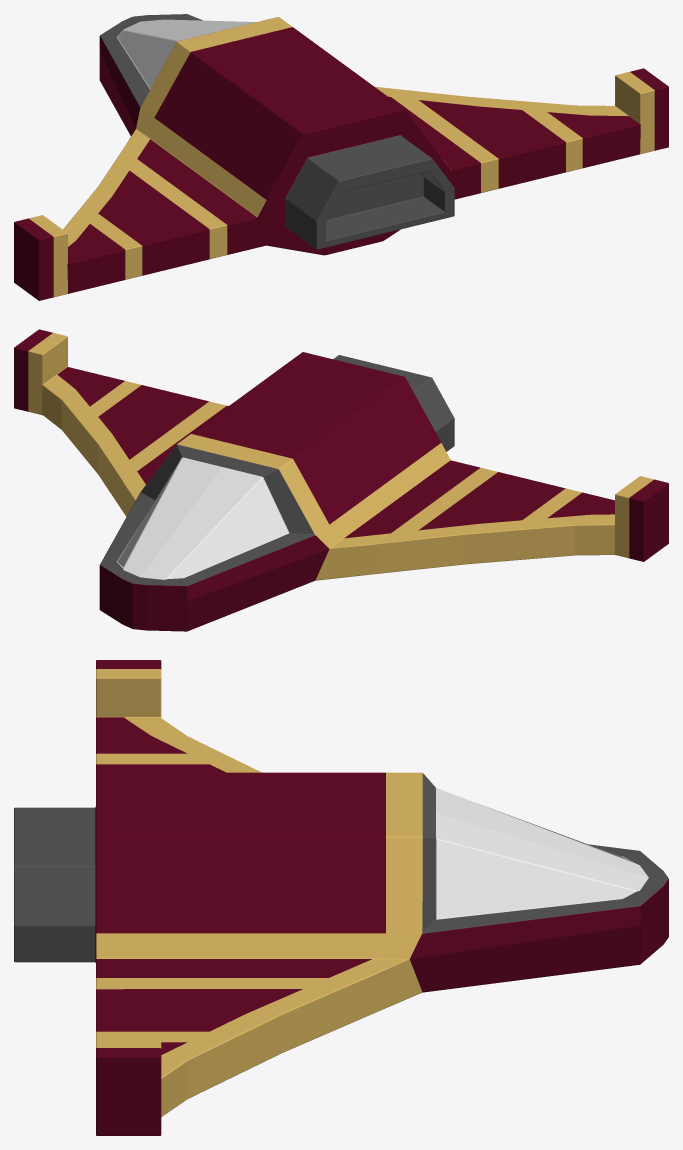
File: SpaceShip.fbx
3 views of the same model, one above another, from view 1: azimuth 30°, elevation 25°; view 2: azimuth 150°, elevation 25°; view 3: azimuth 270°, elevation 25° (orthographic). The views are drawn at different scales.
Parts seen in each view (by area): view 1: Cube; view 2: Cube; view 3: Cube.
Boxes of the visible parts, box(x1,y1,x2,y2) form: Cube: box(14, 14, 668, 300); Cube: box(14, 329, 668, 631); Cube: box(14, 660, 668, 1135).
Bounding box in the file's own units: 432 × 83.21 × 301.
